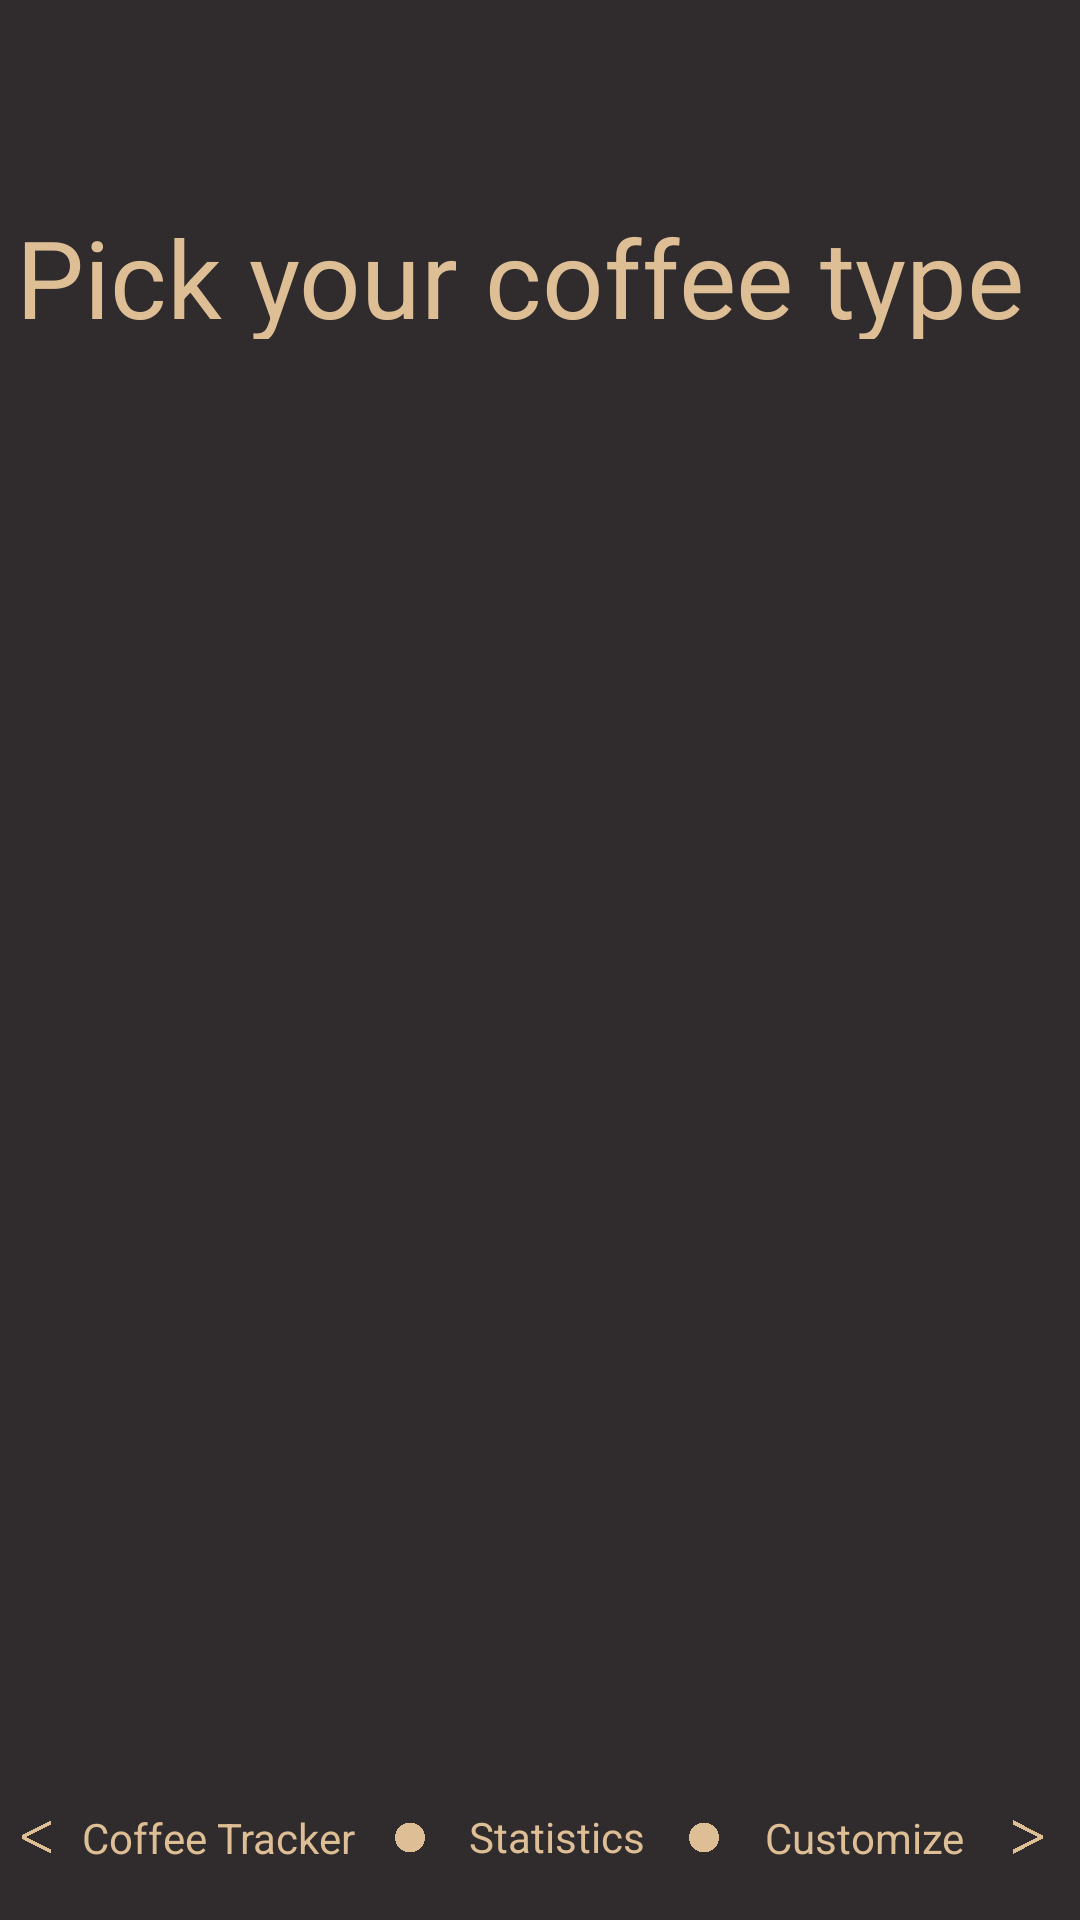

Icons on this 1080w x 1920h Android screen, each with the point to tap as [x,y]:
larrow: [36,1837]
rarrow: [1028,1837]
